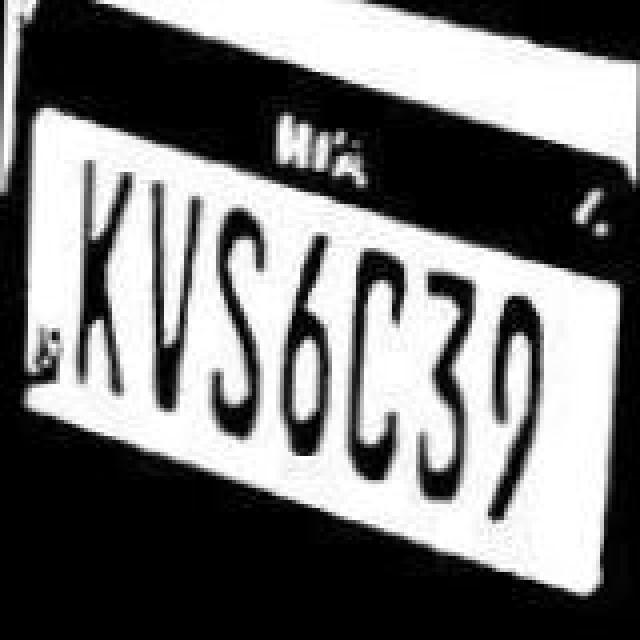3: (408, 256, 492, 524)
6: (272, 222, 344, 466)
9: (486, 288, 558, 536)
C: (338, 246, 422, 502)
K: (56, 154, 144, 406)
S: (196, 196, 276, 448)
V: (130, 176, 206, 428)
